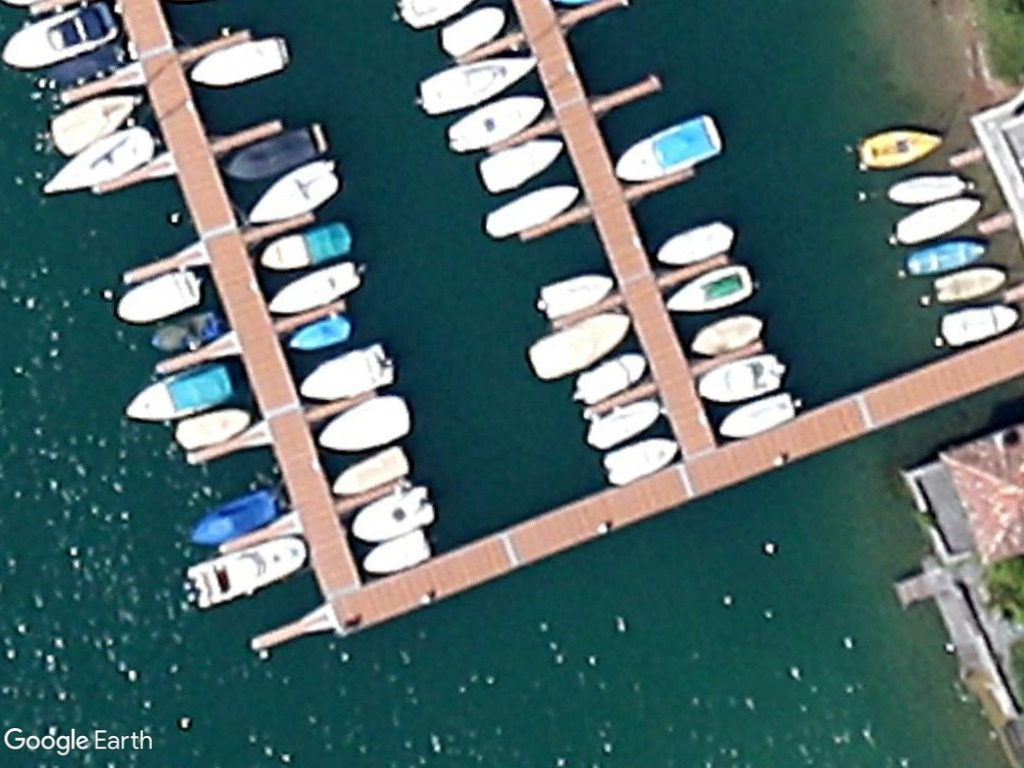boat: (181, 527, 308, 611), (523, 297, 633, 386), (39, 117, 158, 197), (413, 49, 545, 121), (609, 110, 728, 185), (0, 0, 118, 72), (120, 356, 234, 430), (442, 81, 549, 159), (46, 84, 149, 165), (221, 114, 333, 188), (243, 152, 346, 228), (316, 386, 414, 456), (187, 26, 294, 89), (295, 337, 398, 402), (481, 179, 583, 243), (184, 485, 281, 552), (690, 346, 789, 410), (266, 256, 365, 320), (110, 263, 201, 331), (474, 131, 567, 197), (348, 481, 439, 543), (253, 217, 355, 272), (658, 260, 755, 317), (578, 392, 667, 453), (890, 194, 984, 249), (712, 388, 804, 444), (599, 431, 687, 489), (570, 346, 649, 408), (680, 304, 767, 360), (332, 439, 411, 499), (432, 1, 512, 60), (930, 301, 1023, 350), (652, 218, 736, 272), (172, 399, 253, 455), (899, 236, 999, 279), (533, 268, 614, 321), (855, 128, 945, 172), (925, 263, 1009, 307), (358, 528, 430, 578), (880, 168, 968, 207), (285, 308, 356, 352)
